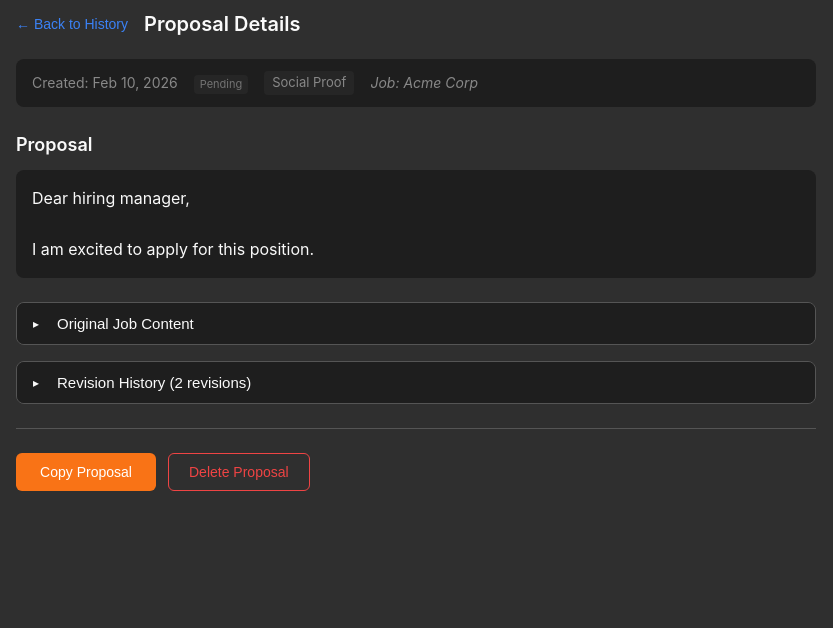
it: ProposalDetailView › loads revision content on click (AC-4)
The width and height of the screenshot is (833, 628).
Expand revision list
Click the button "▸ Revision History (2 revisions)" at [116, 383], box 17,362 -> 815,403
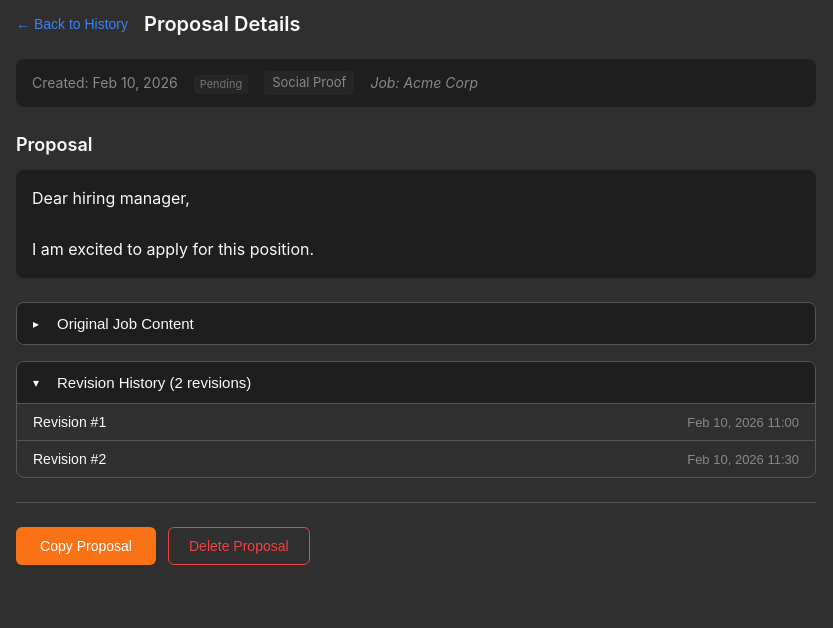
Expected: the text "Revision #1" is shown
Click revision to load content
Click the text "Revision #1" at [70, 422], box 33,414 -> 106,430
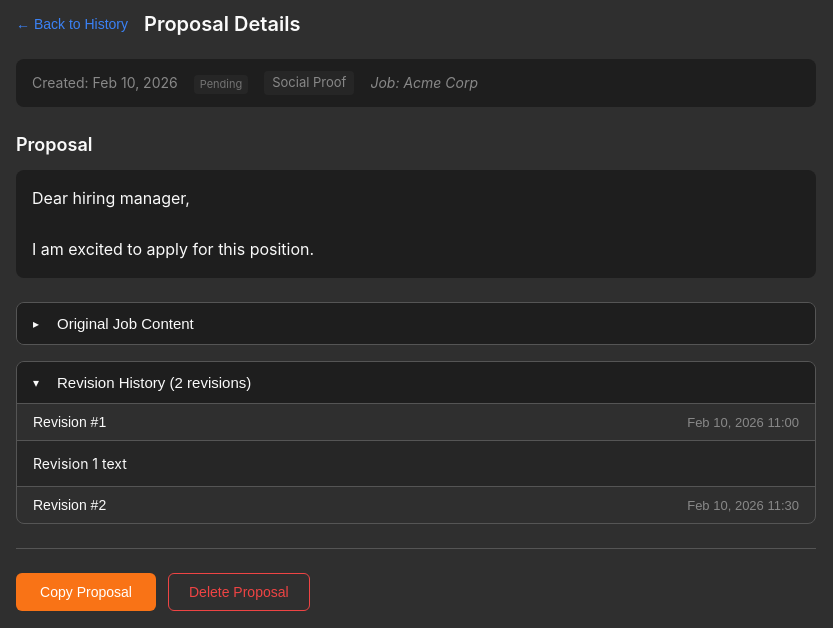
Expected: the text "Revision 1 text" is shown, 17,440 -> 815,486
